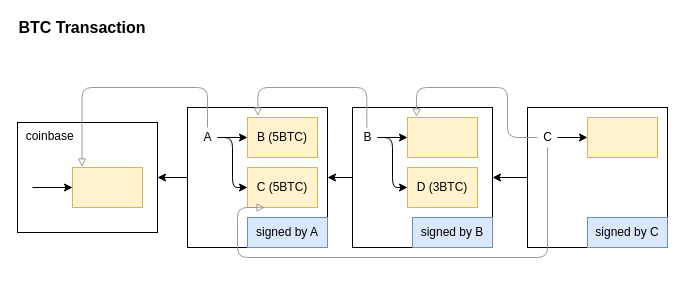
This 685x283 diagram has some shape labels left out. The centre of each missing label's shape, as x and y in pixels:
"A (10BTC)" goes at (107,187).
"C (2BTC)" goes at (442,137).
"E（7BTC）" goes at (622,137).
